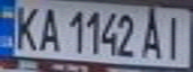1: (81, 8, 103, 54), (63, 6, 84, 53)
2: (115, 9, 139, 58)
4: (100, 8, 121, 56)
A: (139, 10, 169, 61), (36, 3, 63, 52)
I: (160, 11, 190, 61)
K: (9, 2, 42, 52)
